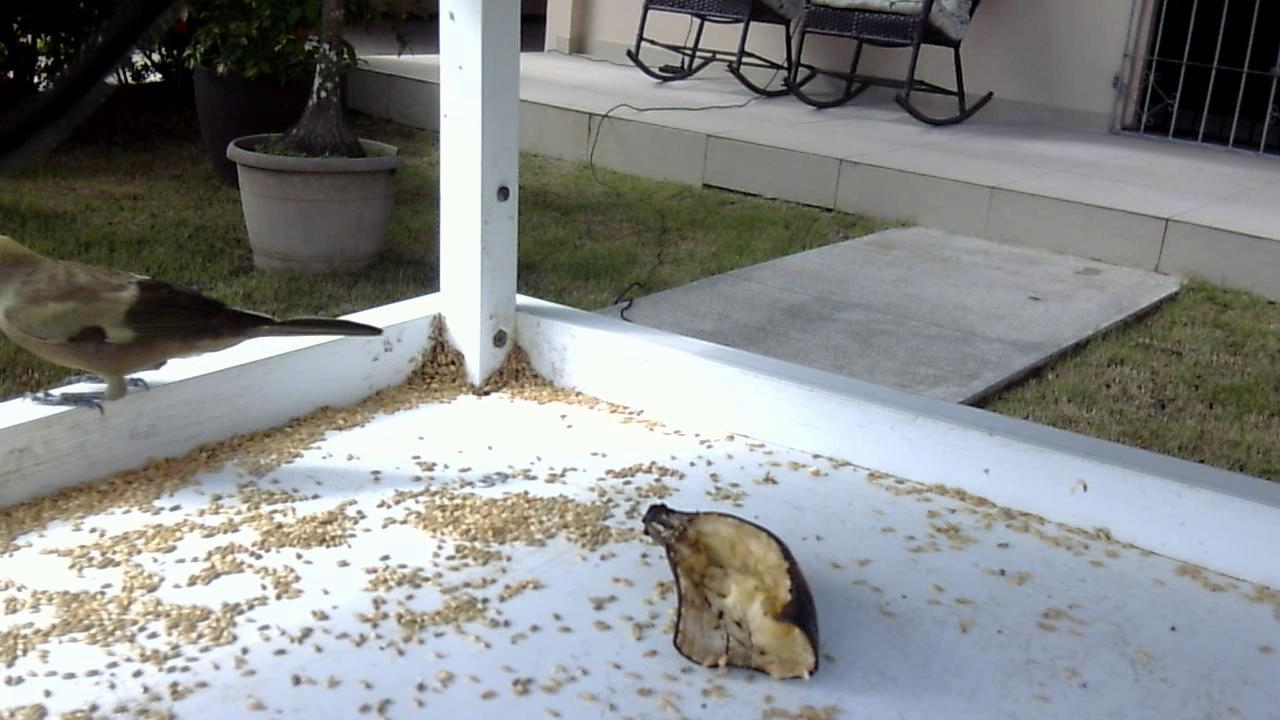sanhaco_do_coqueiro: (1, 230, 379, 420)
